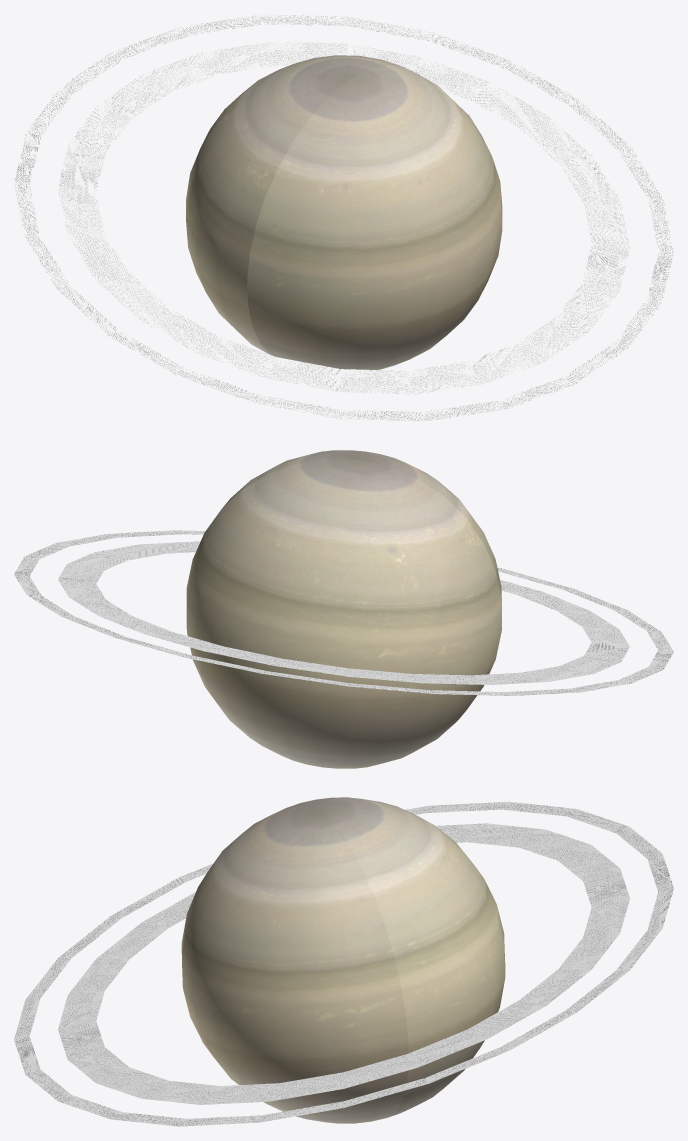
3 views of the same model, one above another, from view 1: azimuth 30°, elevation 25°; view 2: azimuth 150°, elevation 25°; view 3: azimuth 270°, elevation 25° (orthographic). The views are drawn at different scales.
Parts seen in each view (by area): view 1: skeFB90 (×3); view 2: skeFB90 (×3); view 3: skeFB90 (×3).
Boxes of the visible parts, x1,y1,x2,y2 form: skeFB90 (×3): [14, 14, 673, 421]; skeFB90 (×3): [14, 450, 673, 768]; skeFB90 (×3): [14, 797, 673, 1126].
Size of the model in its own units: 245 by 238 by 117.
